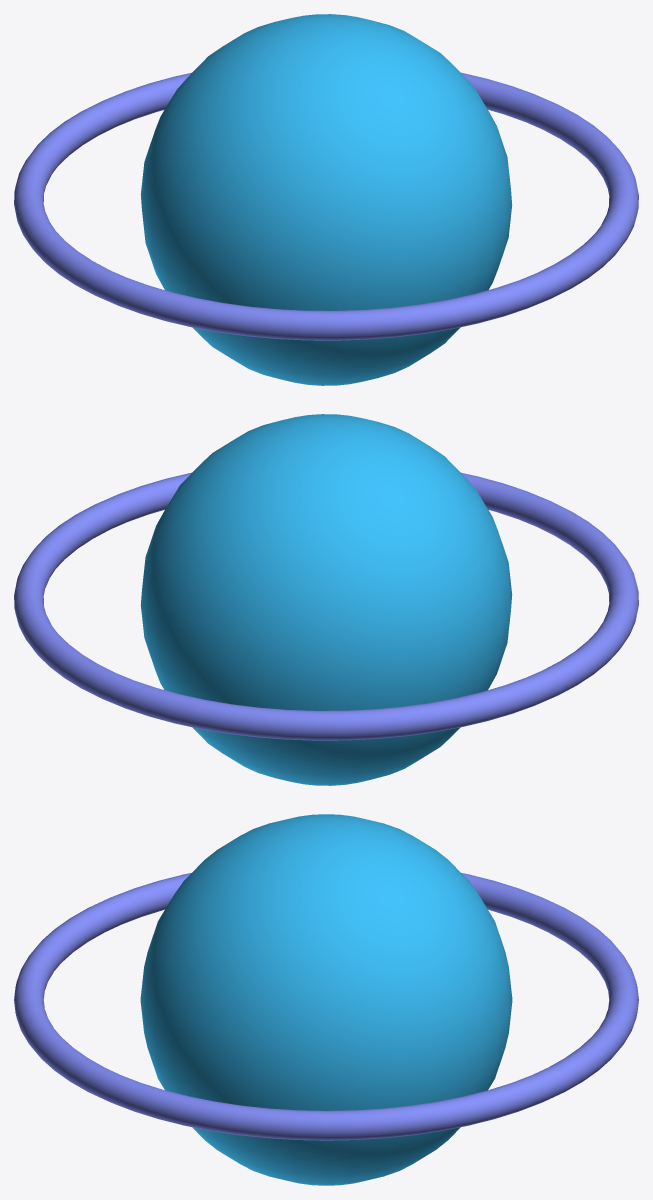
Rendered from sample.glb.
3 renders of one model, top to bottom at view 1: azimuth 30°, elevation 25°; view 2: azimuth 150°, elevation 25°; view 3: azimuth 270°, elevation 25°, orthographic.
Bounding box in the file's own units: 0.84 × 0.5 × 0.84.
